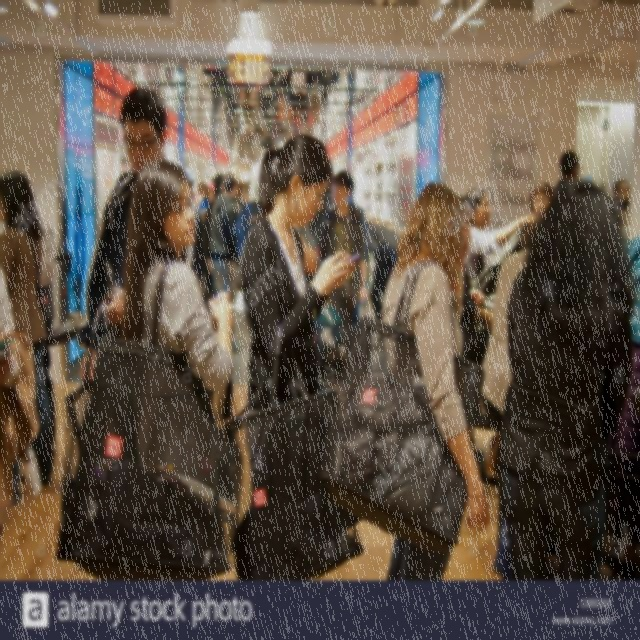pessoa: (217, 129, 365, 582), (497, 175, 636, 582), (377, 178, 493, 582), (75, 87, 194, 390), (118, 158, 236, 401), (0, 169, 54, 486), (0, 222, 59, 462), (0, 265, 40, 548), (318, 170, 370, 330), (454, 192, 494, 366), (462, 187, 536, 280), (208, 172, 244, 356), (527, 148, 585, 216), (364, 221, 400, 322), (186, 161, 223, 221), (233, 181, 252, 260), (612, 178, 632, 228)
